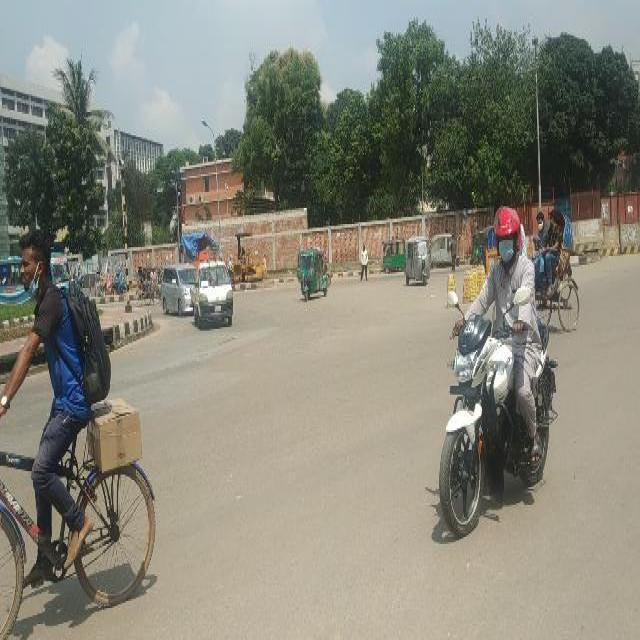bike: (1, 415, 159, 639), (432, 326, 557, 547)
vehicle: (532, 207, 580, 325), (198, 263, 235, 327), (300, 248, 329, 302), (163, 264, 192, 318), (405, 235, 431, 286), (432, 233, 461, 270), (135, 266, 161, 305), (382, 239, 405, 275), (81, 271, 103, 296), (485, 224, 498, 254)
